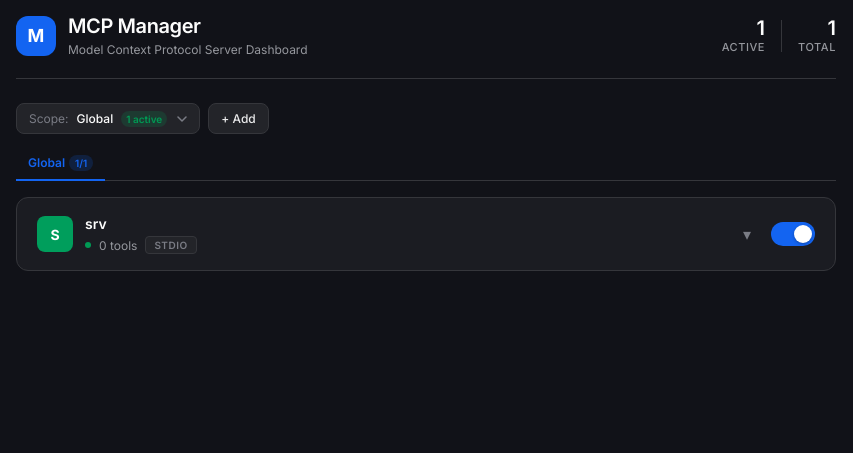
Delete server error › shows error when delete API fails
// Expand, delete, confirm
Click the text "srv".
click(96, 224)  # box [85,215,107,232]
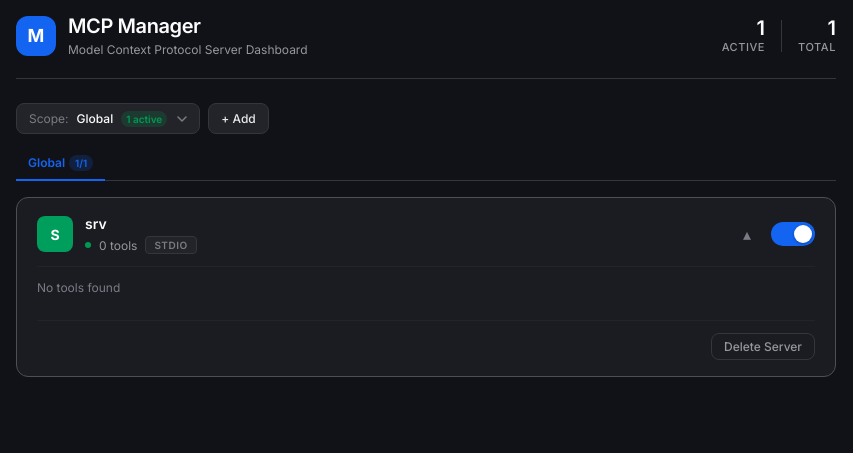
Expected: the button "Delete Server" is shown
Click the button "Delete Server".
click(763, 346)  # box [711,333,815,360]
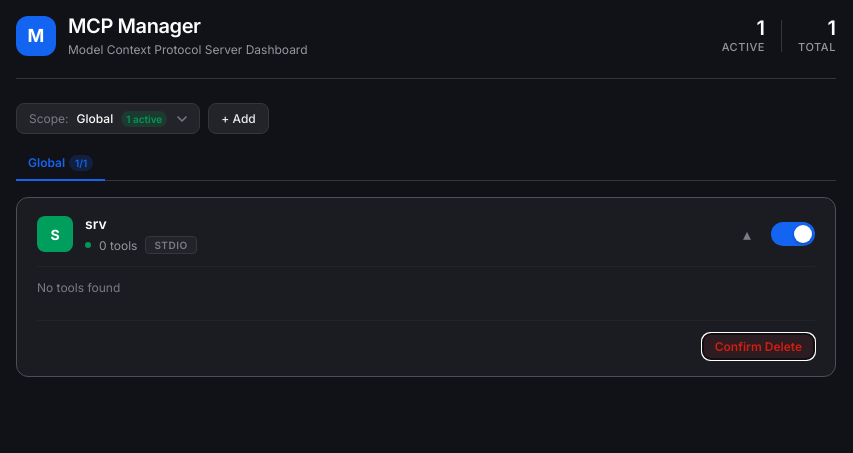
Click the button "Confirm Delete".
click(758, 346)  # box [702,333,815,360]
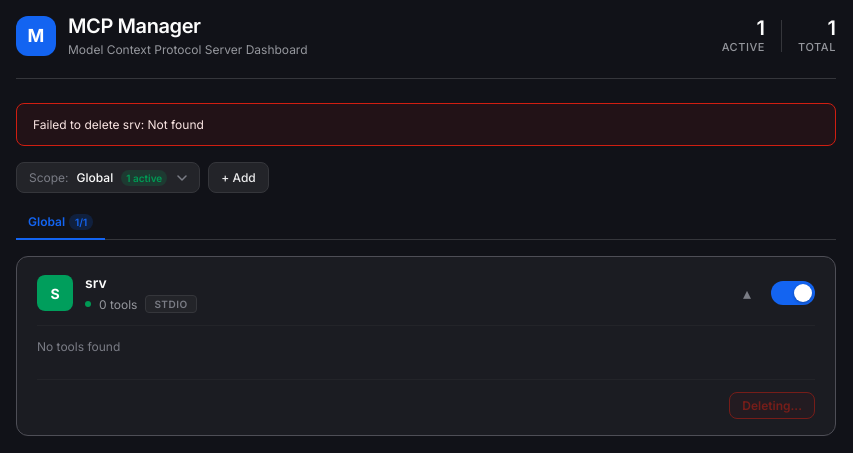
Expected: the message shows "Failed to delete srv", [33,117,204,132]
